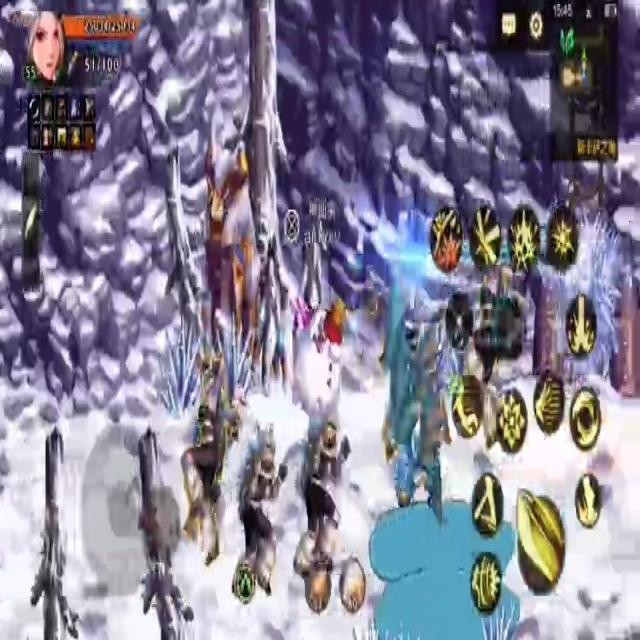player: (290, 286, 347, 440)
